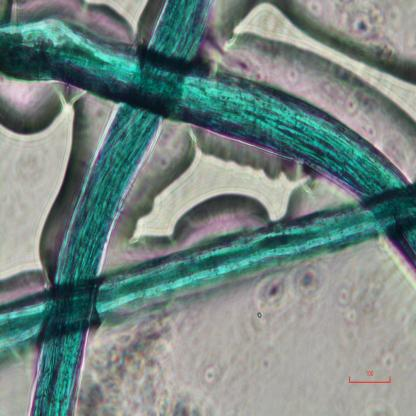Air bubble: (235, 3, 416, 126), (128, 154, 304, 246), (0, 96, 79, 290), (0, 80, 62, 137), (76, 0, 151, 37)
Background material: (82, 310, 192, 412), (254, 265, 324, 313), (331, 274, 387, 323), (330, 2, 383, 44), (331, 77, 372, 121), (201, 350, 228, 393), (363, 394, 397, 415), (378, 352, 402, 372)
Microfibre: (0, 20, 416, 271), (29, 0, 214, 414), (0, 183, 416, 357)
